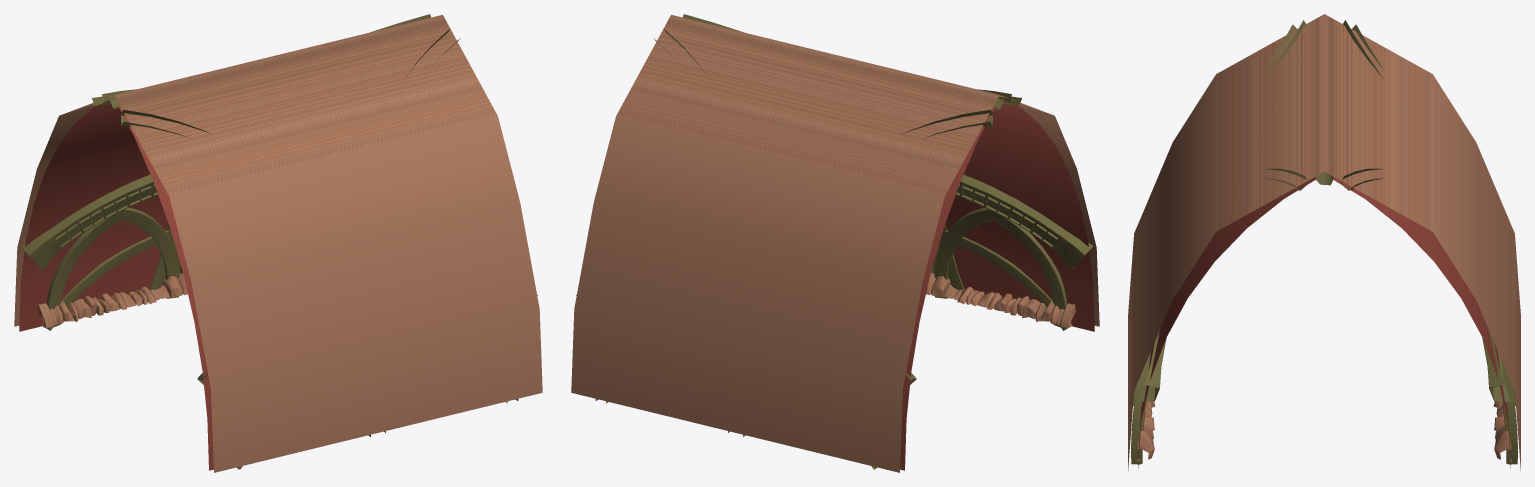
Rendered from Geonosis_Tunnel01_Straight01.fbx.
3 views of the same model, side by side, from view 1: azimuth 30°, elevation 25°; view 2: azimuth 150°, elevation 25°; view 3: azimuth 270°, elevation 25° (orthographic).
Parts seen in each view (by area): view 1: Geonosis_Tunnel01_Straight01; view 2: Geonosis_Tunnel01_Straight01; view 3: Geonosis_Tunnel01_Straight01.
Boxes of the visible parts, left/top/right/bottom form: Geonosis_Tunnel01_Straight01: left=14, top=14, right=542, bottom=472; Geonosis_Tunnel01_Straight01: left=571, top=14, right=1099, bottom=472; Geonosis_Tunnel01_Straight01: left=1128, top=14, right=1520, bottom=470.
Bounding box in the file's own units: 1030 × 909 × 1052.
